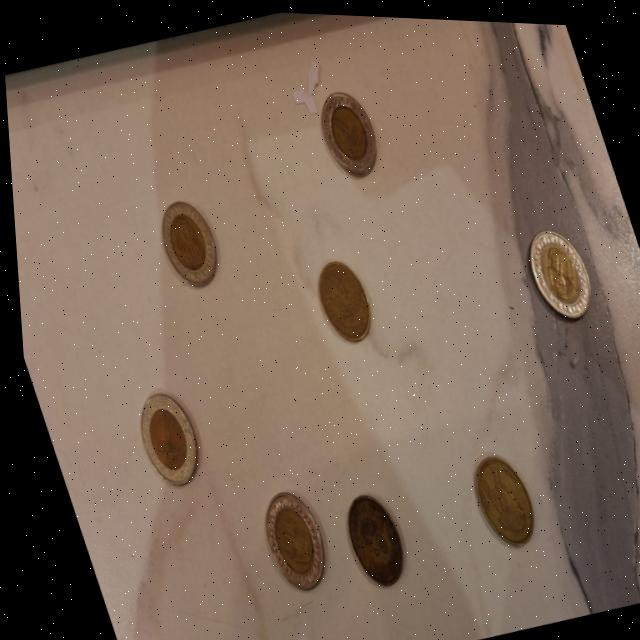Half Pound: (446, 428, 546, 561), (292, 229, 383, 355), (328, 476, 415, 594)
One Pound: (109, 360, 219, 517), (239, 463, 335, 603), (136, 171, 228, 299), (506, 204, 600, 329), (307, 84, 382, 186)
